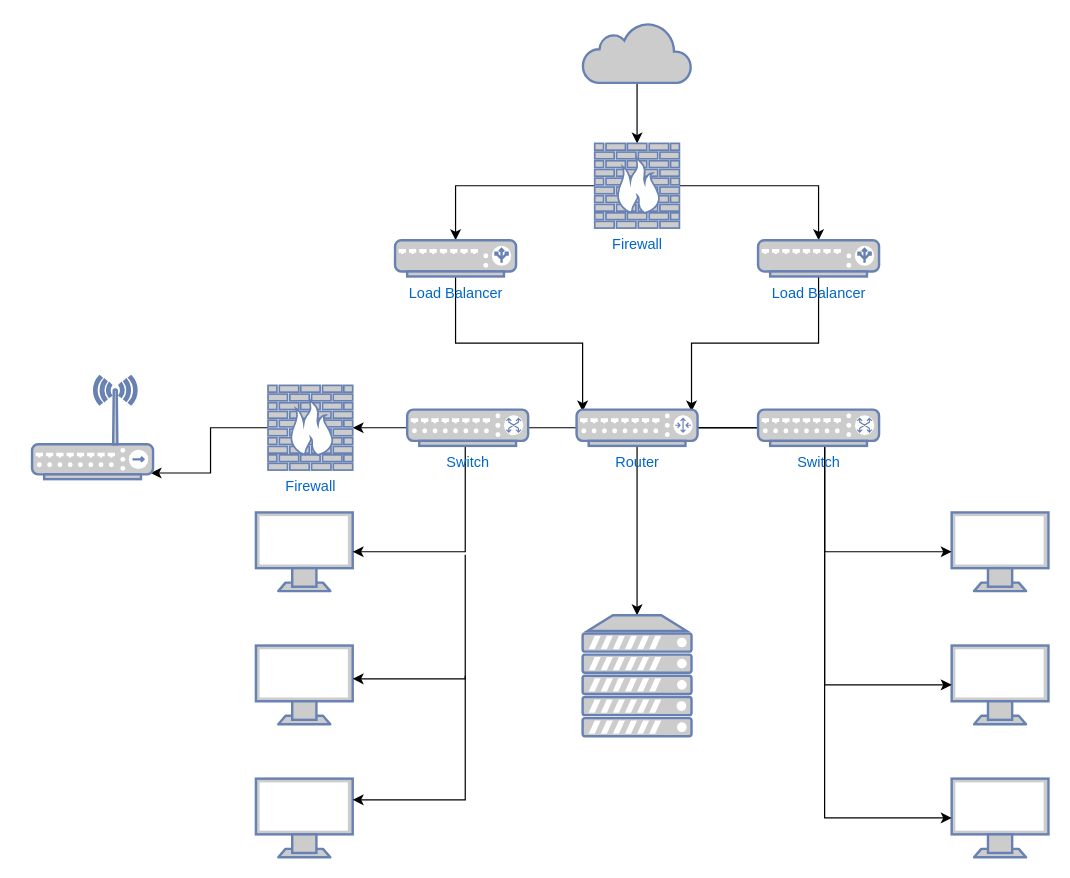
Image size: 1070x878. Some labels were removed from this diagram. The shapes that lost their labels are listed below. From the top down, each one's centre as x and y in pixels, then its label:
At (x=636, y=52): "Internet".
At (x=92, y=427): "Wireless Access Point".
At (x=636, y=675): "Server".
